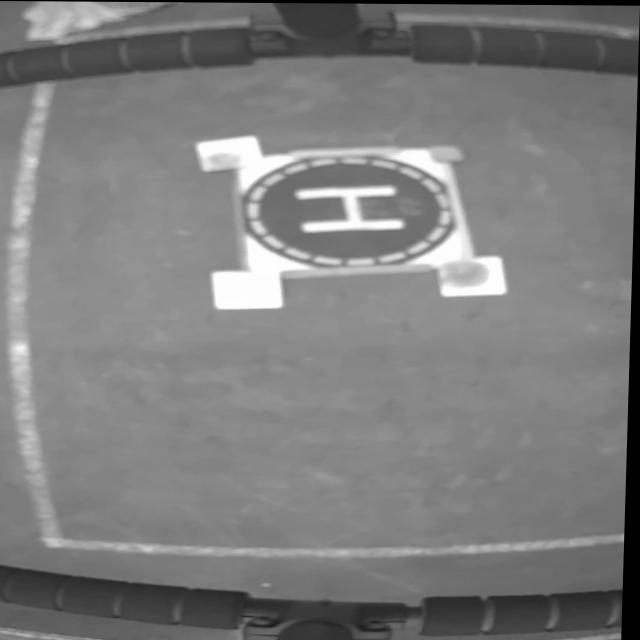Helipad: (294, 183, 410, 232)
